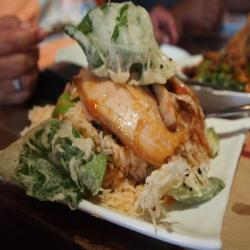omelette: (64, 67, 193, 168)
